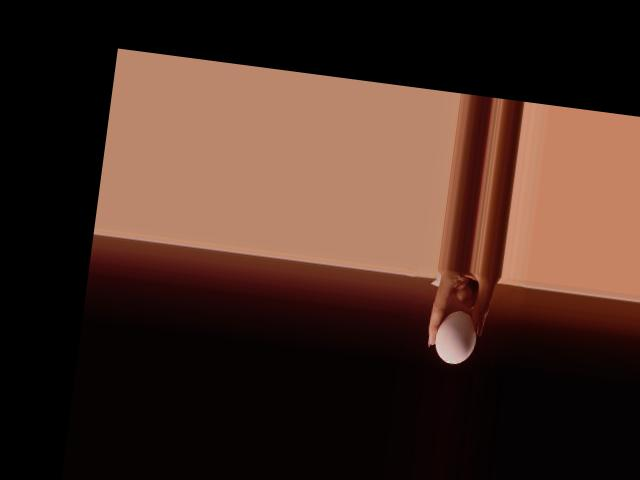egg: (433, 307, 480, 366)
